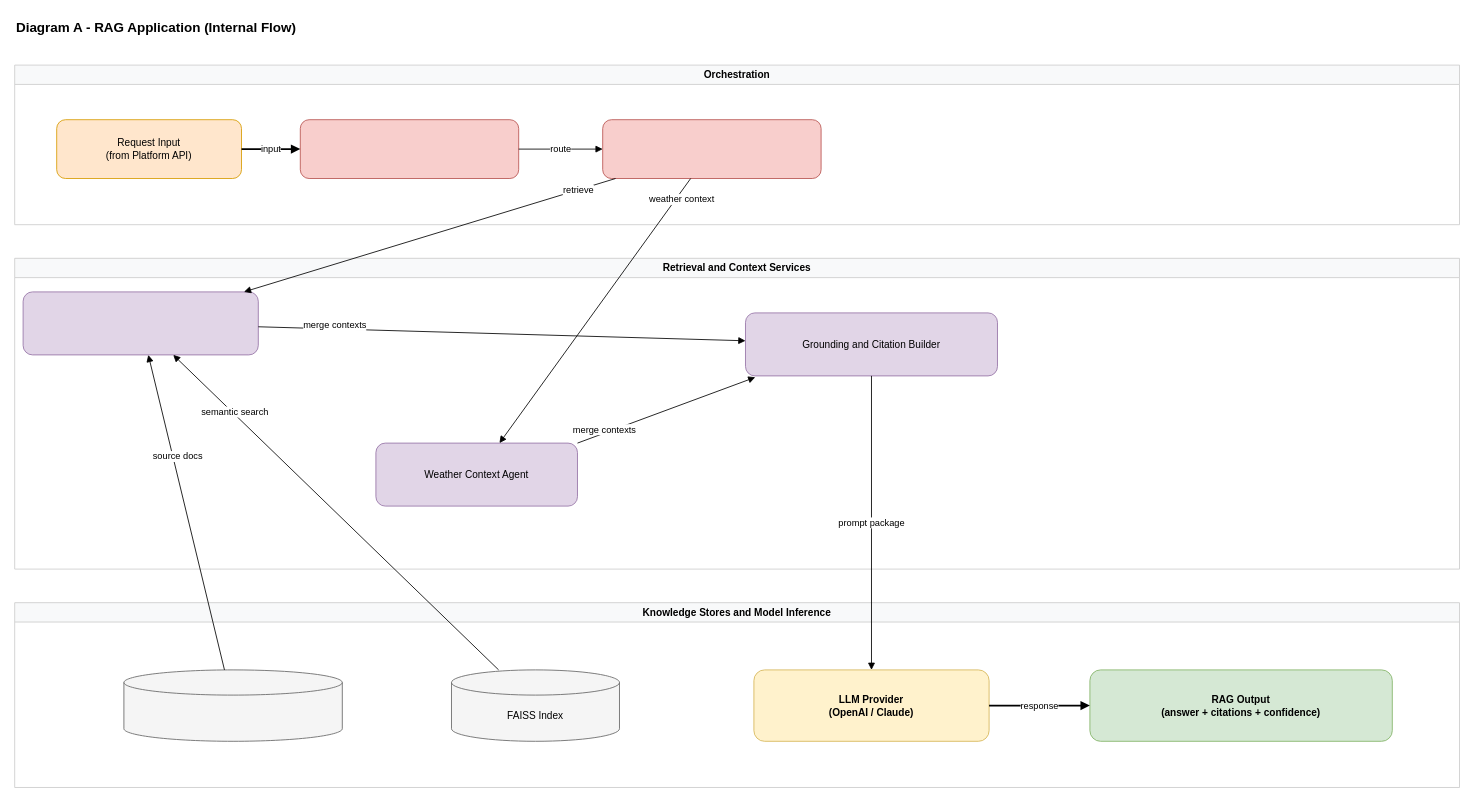
Some shapes in this 1474 by 802 pixel diagram are drawn without their labels. Each missing label, with the centre of its shape:
"LangGraph Router (State Graph)" goes at (409,148).
"MongoDB Trail Corpus" goes at (232,705).
"Prompt and Context Planner" goes at (711,148).
"Vector Retrieval Agent (FAISS Top-K)" goes at (140,323).
